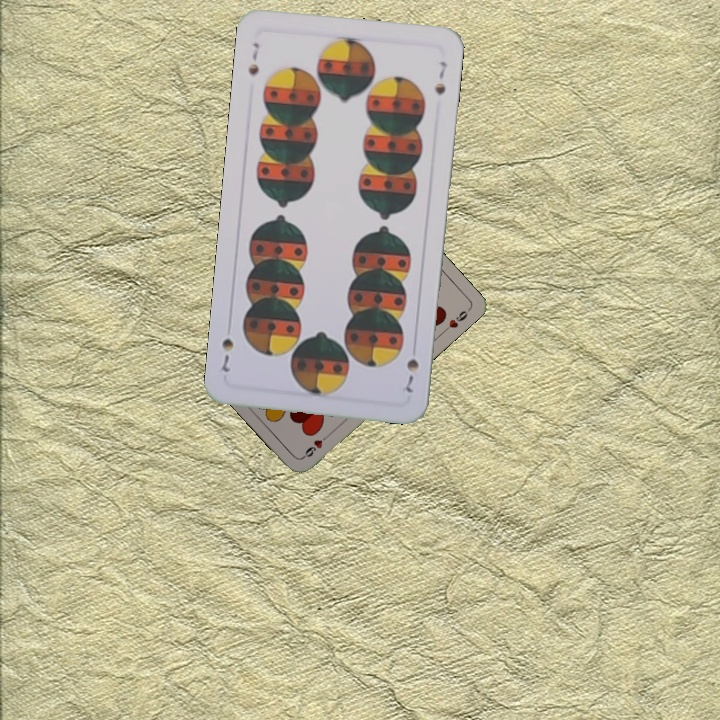H9: (298, 430, 332, 461)
S7: (401, 354, 422, 395), (243, 38, 263, 78)
